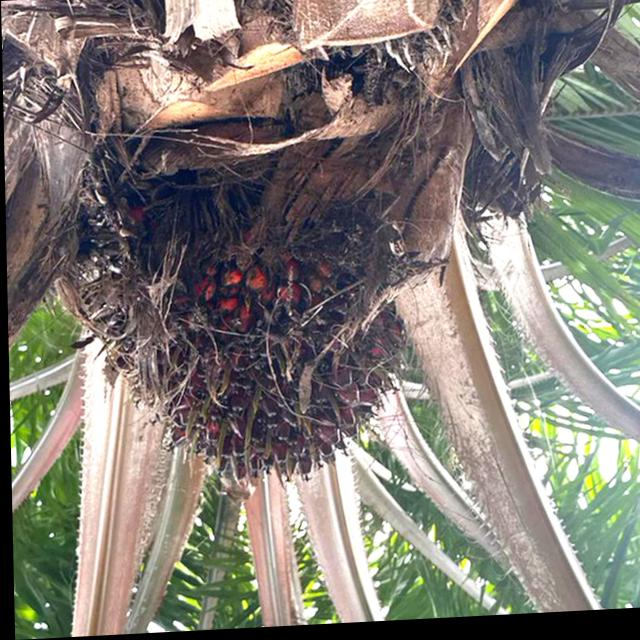ripe: (90, 208, 412, 503)
